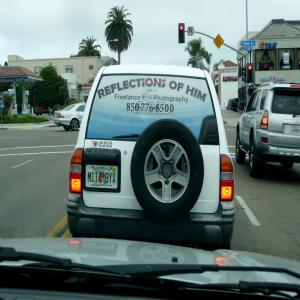Vehicle-registration-plate: (86, 165, 119, 191), (291, 126, 300, 136)
